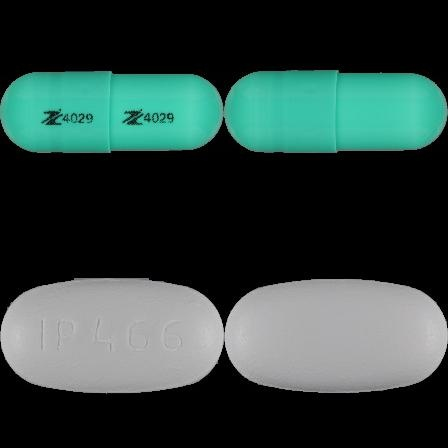67296-0527: (0, 0, 224, 224)
